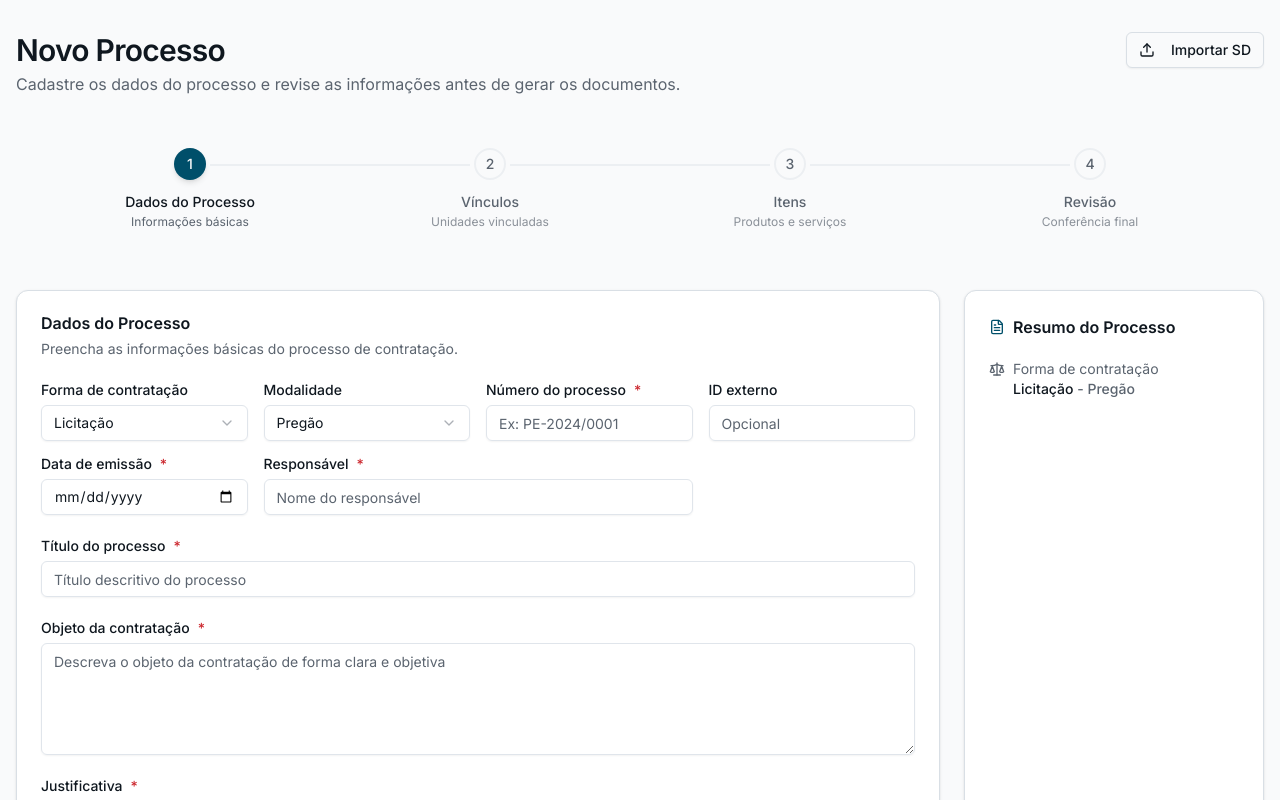
ProcessCreatePage › shows organization selection for admin sessions
In the field labelled "Número do processo *": (589,423) [486, 405, 692, 441], type "PROC-2026-001"
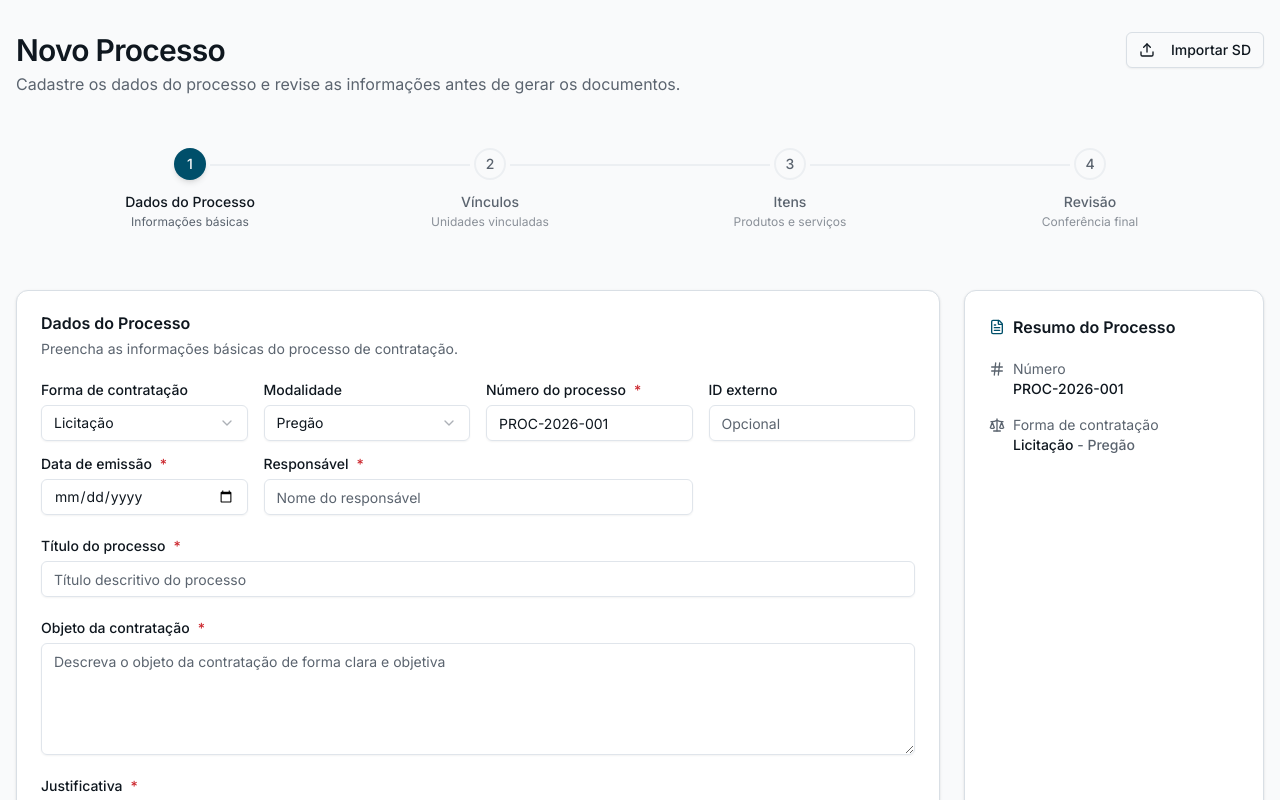
In the date field labelled "Data de emissão *": (144,497) [41, 479, 248, 515], type "2026-01-08"
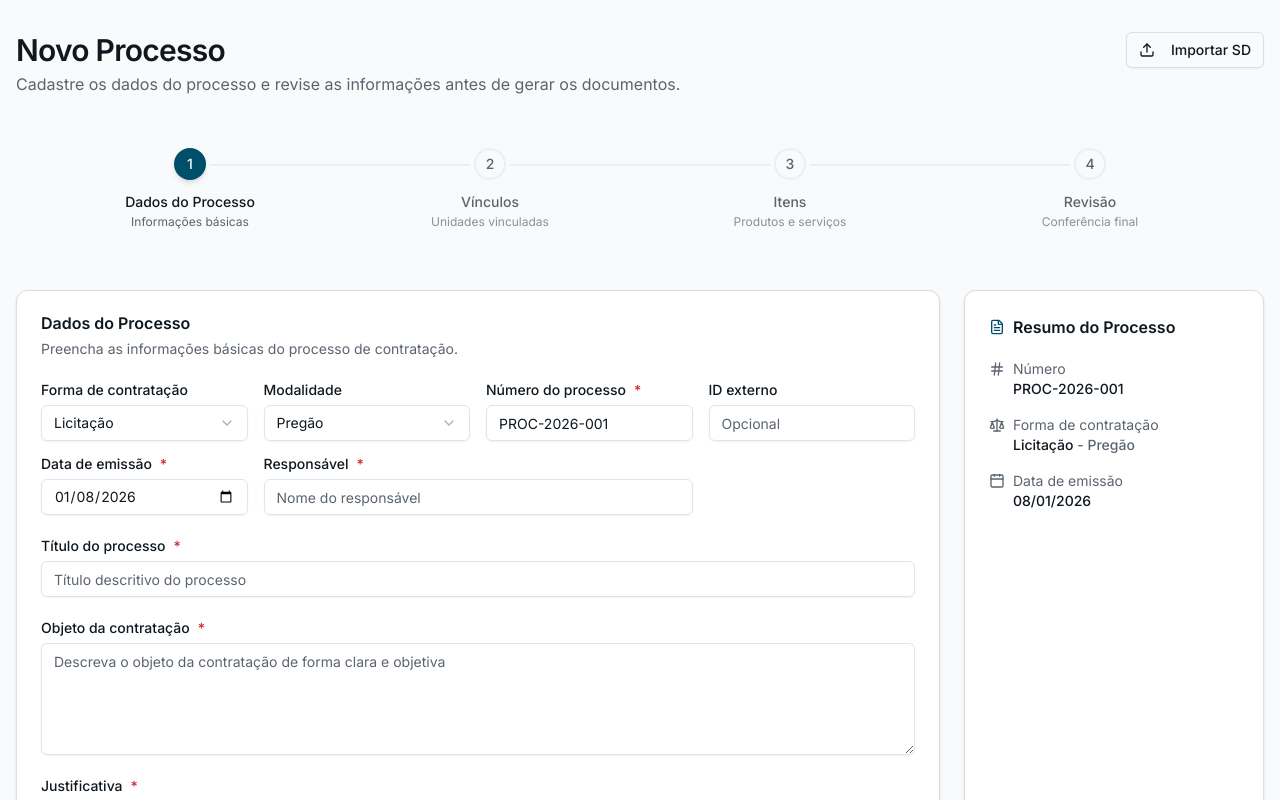
In the field labelled "Responsável *": (478,497) [264, 479, 692, 515], type "Maria Silva"
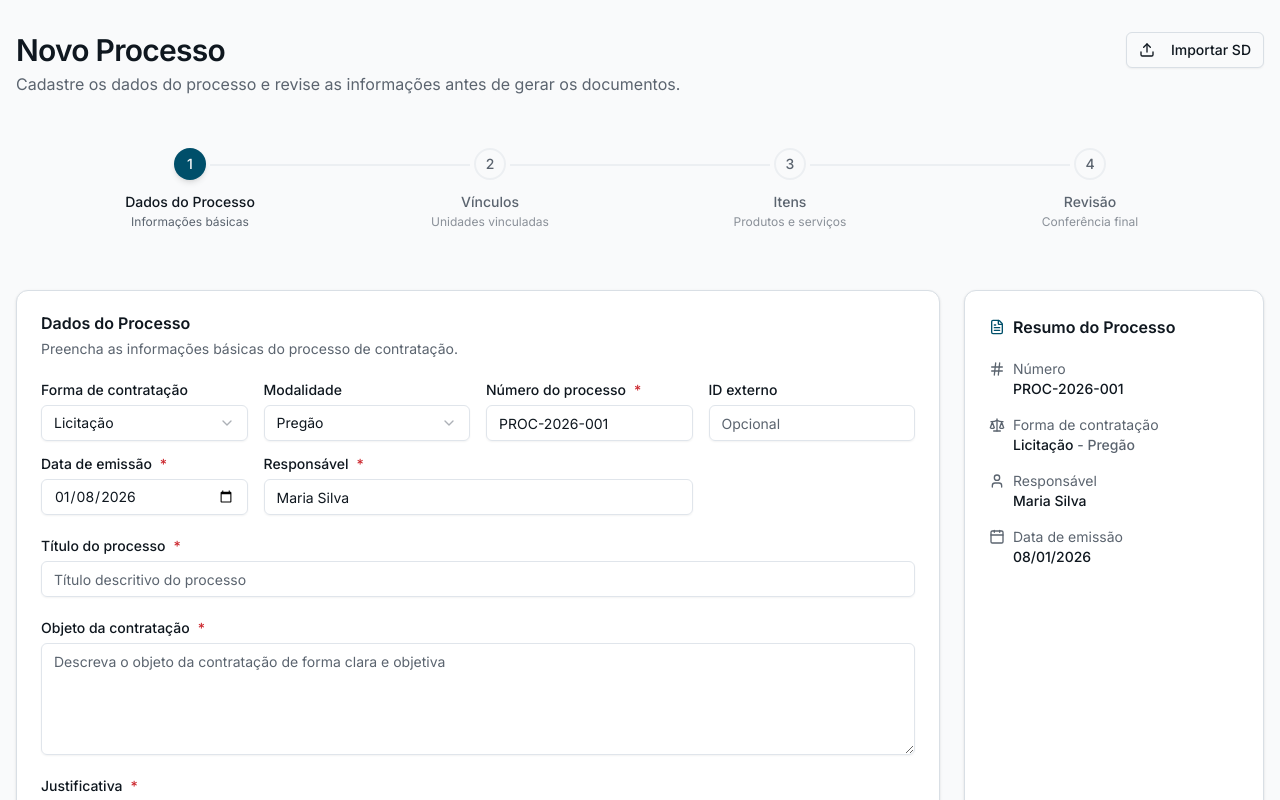
In the field labelled "Título do processo *": (478,579) [41, 561, 915, 597], type "Título do processo"
In the text box labelled "Objeto da contratação *": (478,699) [41, 643, 915, 755], type "Objeto do processo"
(page scrolled)
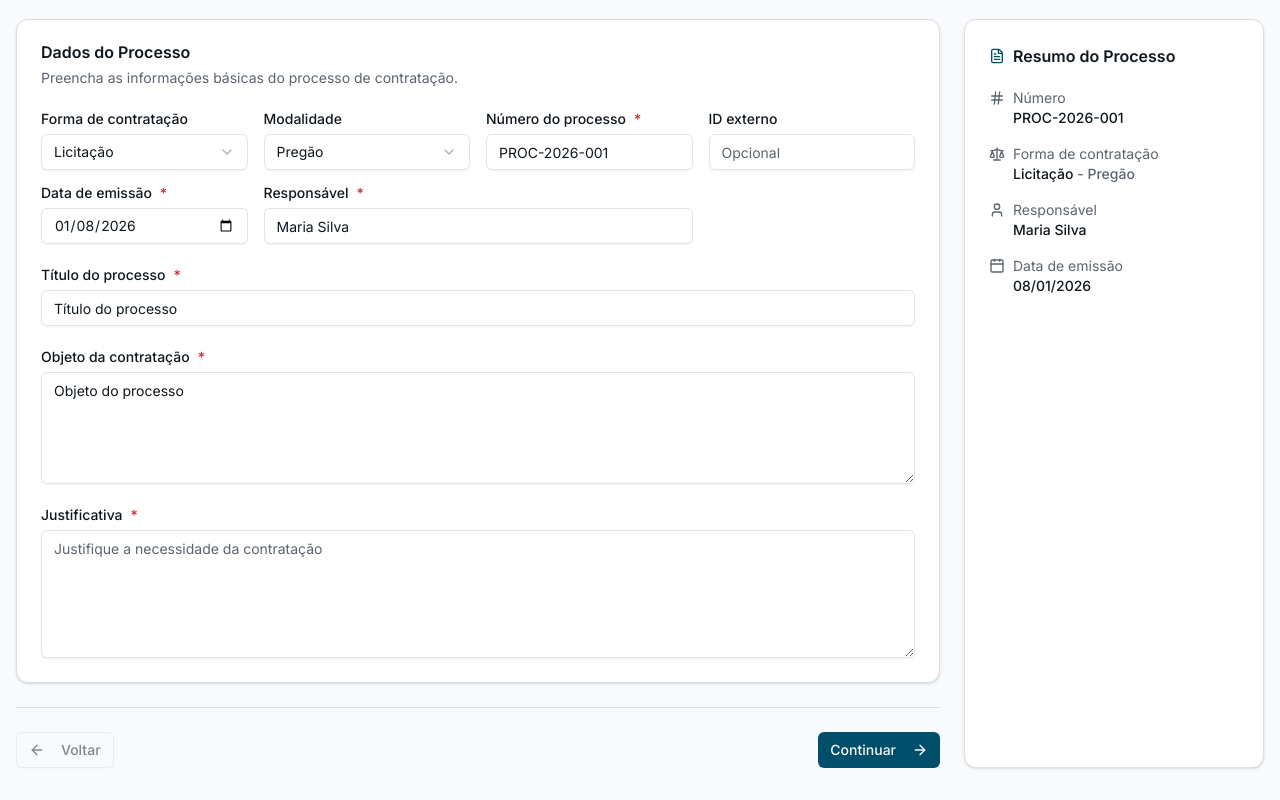
In the text box labelled "Justificativa *": (478,594) [41, 530, 915, 658], type "Justificativa do processo"
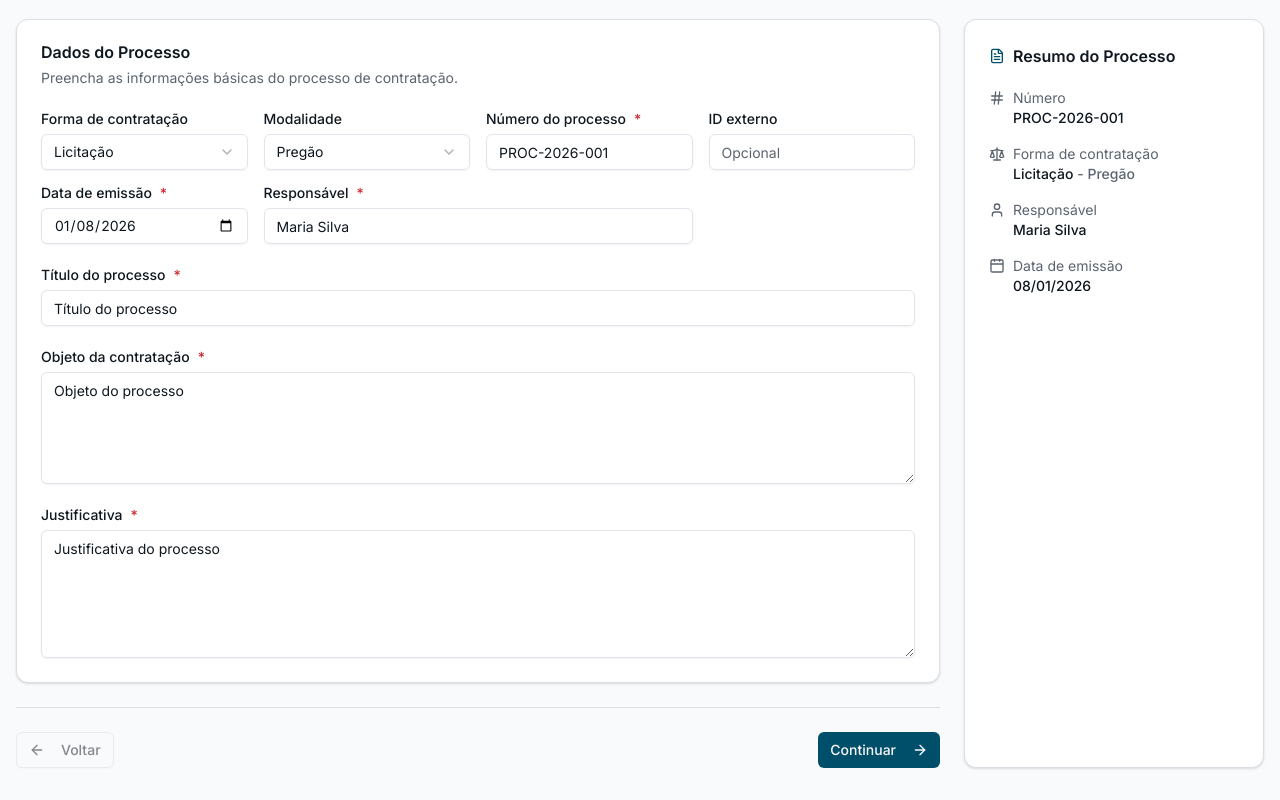
Click the button "Continuar": (879,750) [818, 732, 940, 768]
(page scrolled)
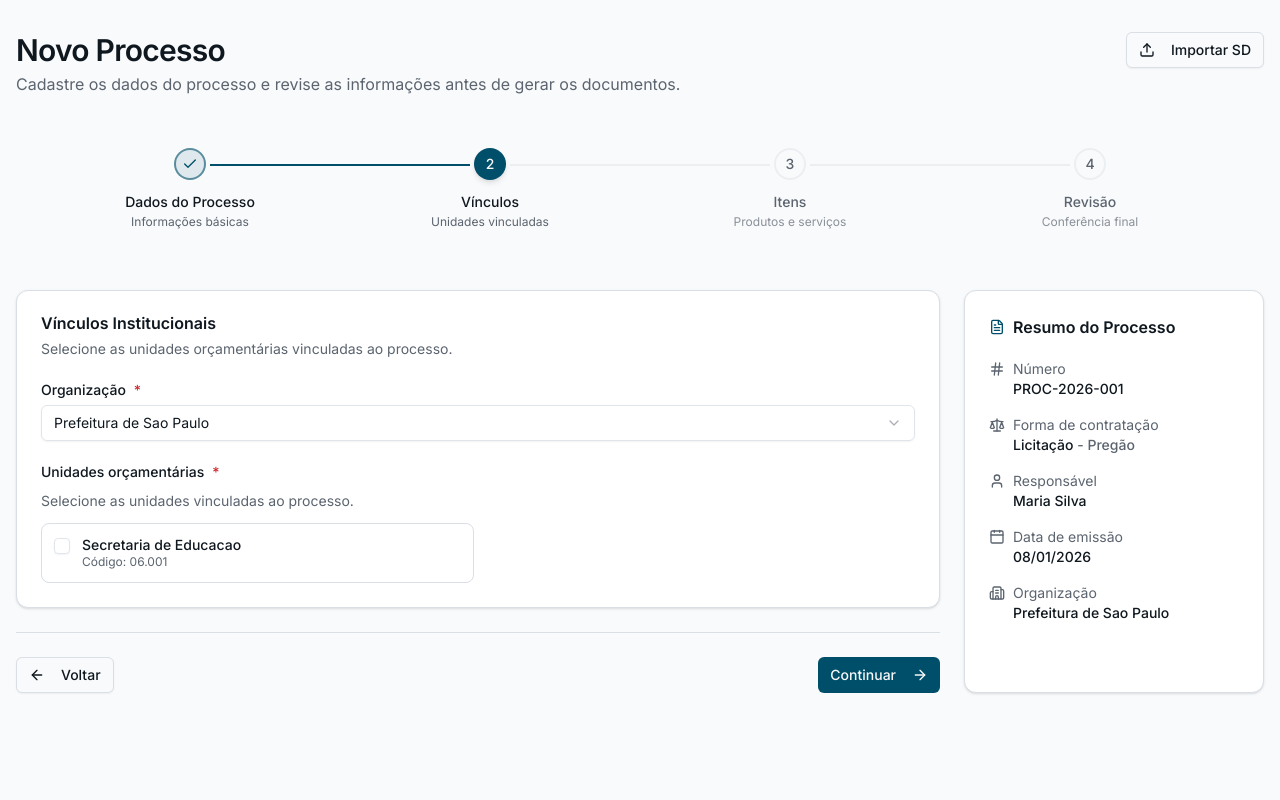
Result: the text "Vínculos Institucionais" is shown at [41, 313, 216, 333]
Result: the dropdown named "Organização" reads "Prefeitura de Sao Paulo" at [41, 405, 915, 441]
